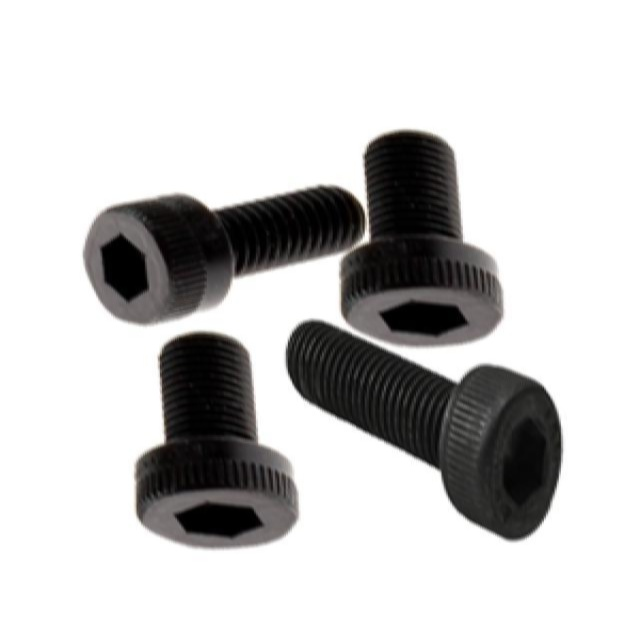allen: (445, 376, 563, 536), (83, 201, 189, 323), (141, 472, 295, 548), (345, 274, 503, 346)
